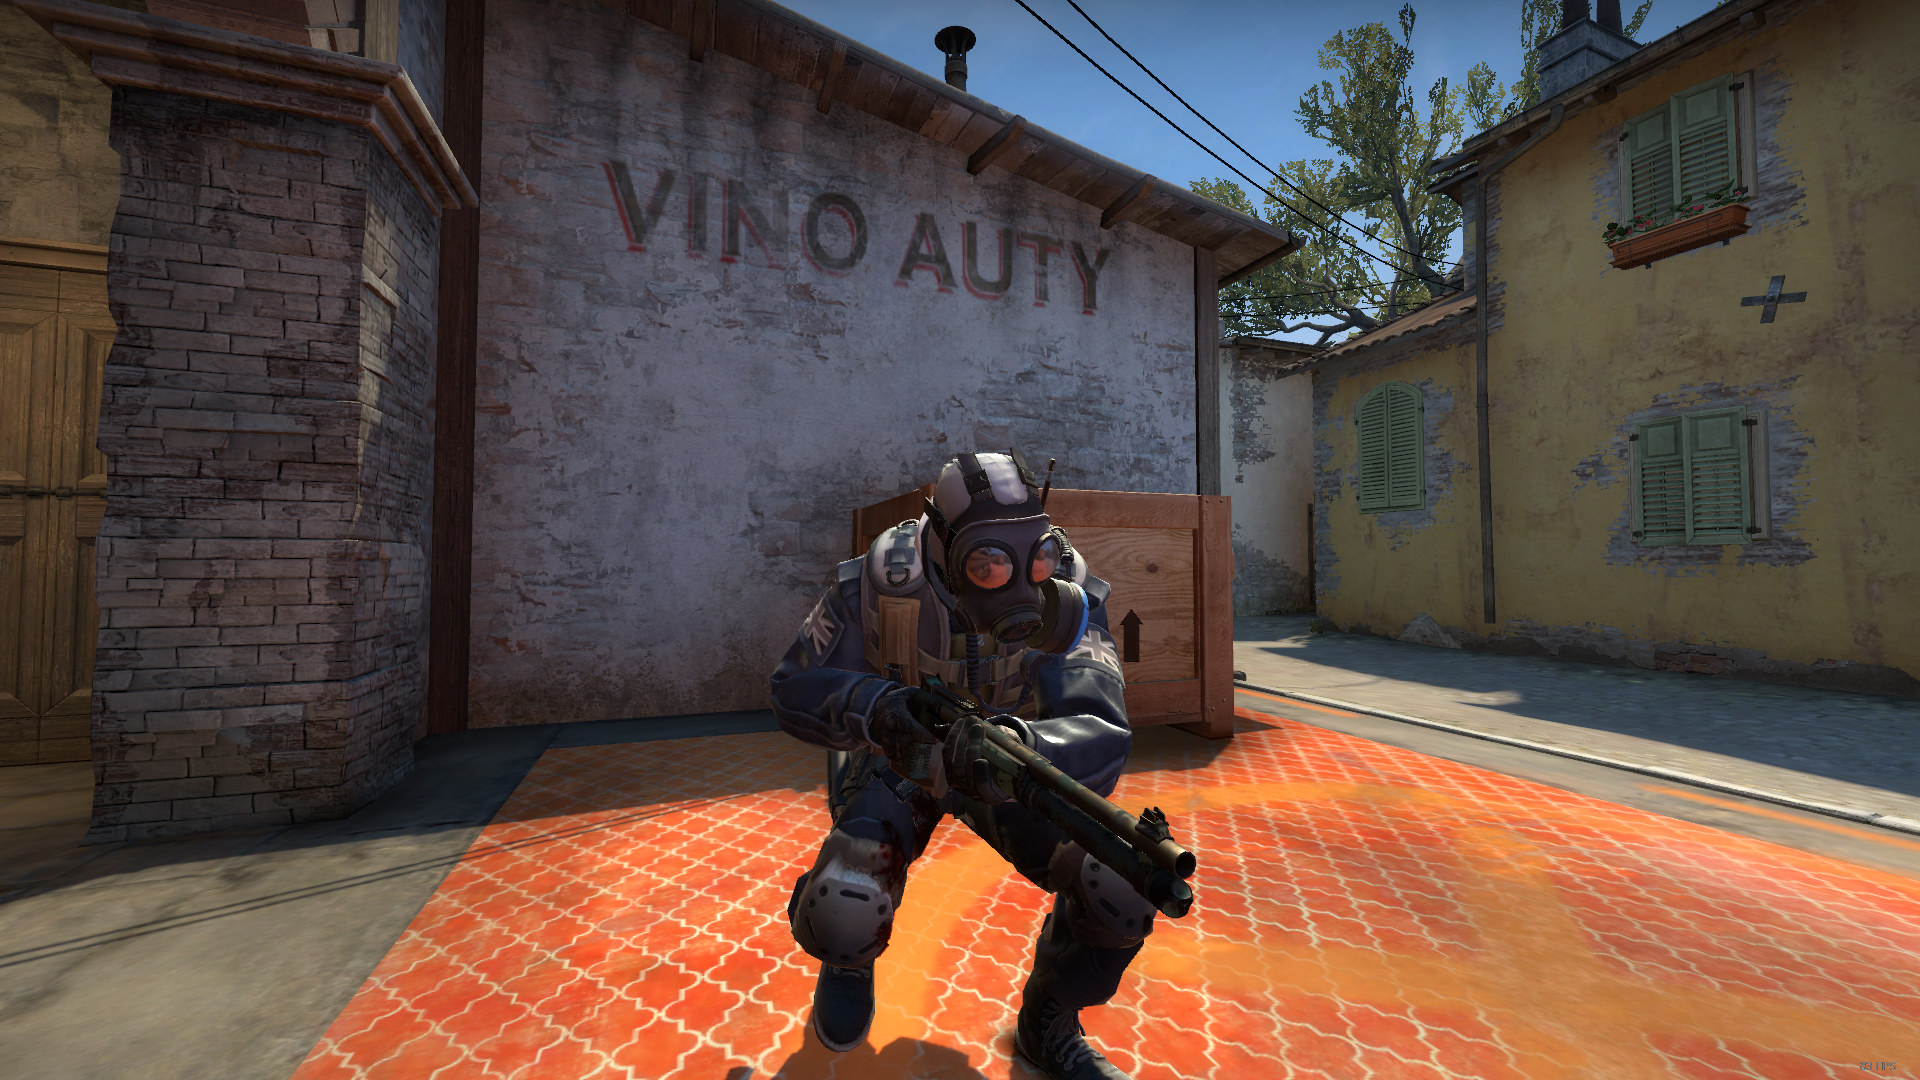ct: (774, 451, 1188, 1080)
